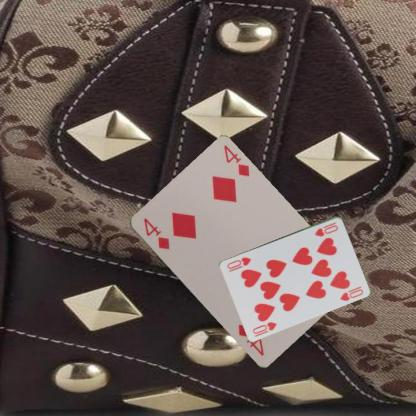10h: (312, 219, 339, 238), (250, 319, 278, 335)
4d: (140, 215, 170, 251)
